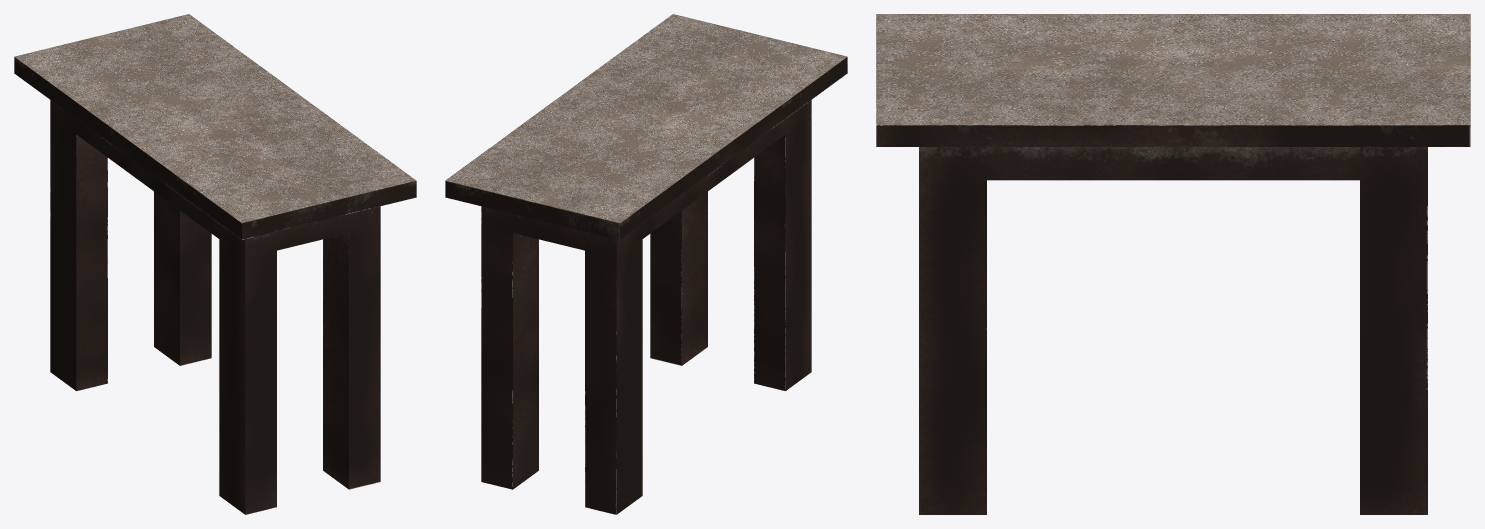
The model's file is smalltable.fbx.
3 renders of one model, left to right at view 1: azimuth 30°, elevation 25°; view 2: azimuth 150°, elevation 25°; view 3: azimuth 270°, elevation 25°, orthographic. The views are drawn at different scales.
Visible parts, largest first — view 1: smalltable; view 2: smalltable; view 3: smalltable.
Part boxes in pixels (<box>): smalltable: <box>14,14,416,514</box>; smalltable: <box>445,14,847,514</box>; smalltable: <box>876,14,1470,514</box>.
Size of the model in its own units: 51.74 by 87.24 by 117.
